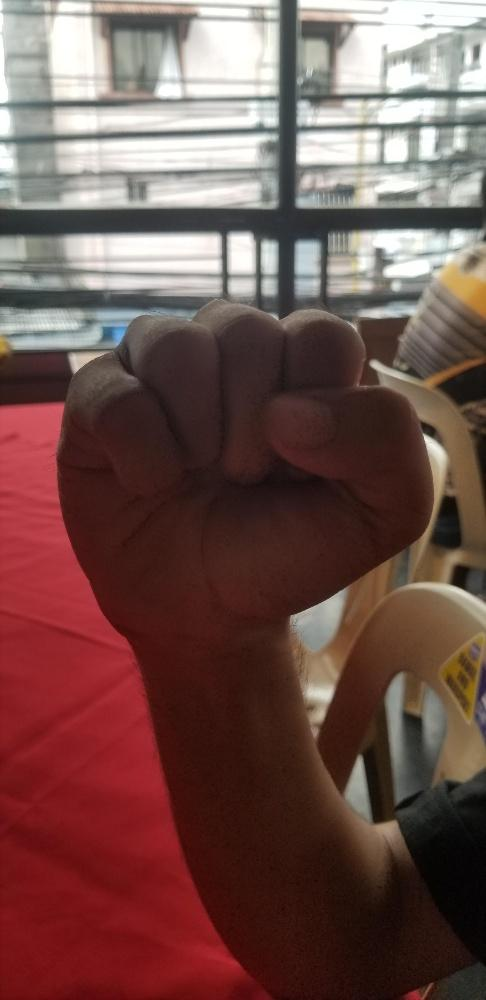s: (55, 293, 436, 639)
